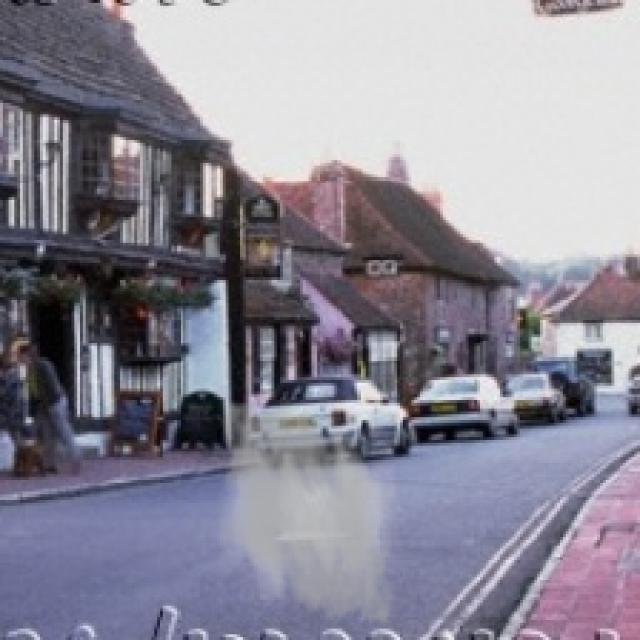Smoke: (202, 392, 408, 634)
